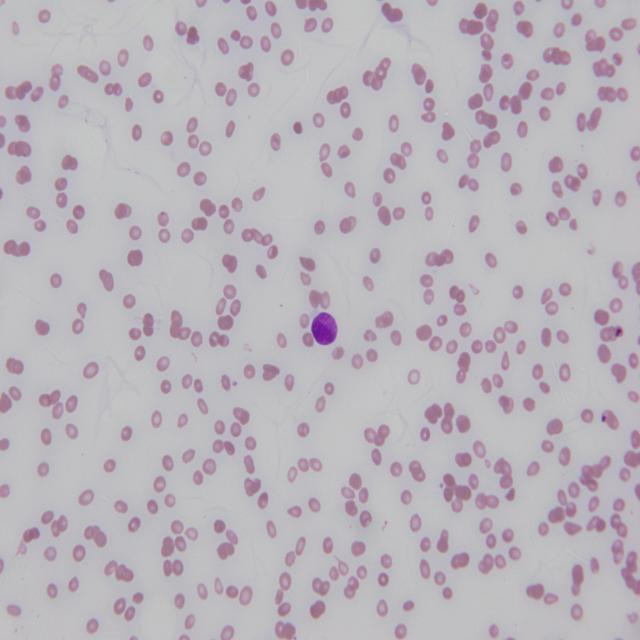cell: (311, 312, 338, 344)
